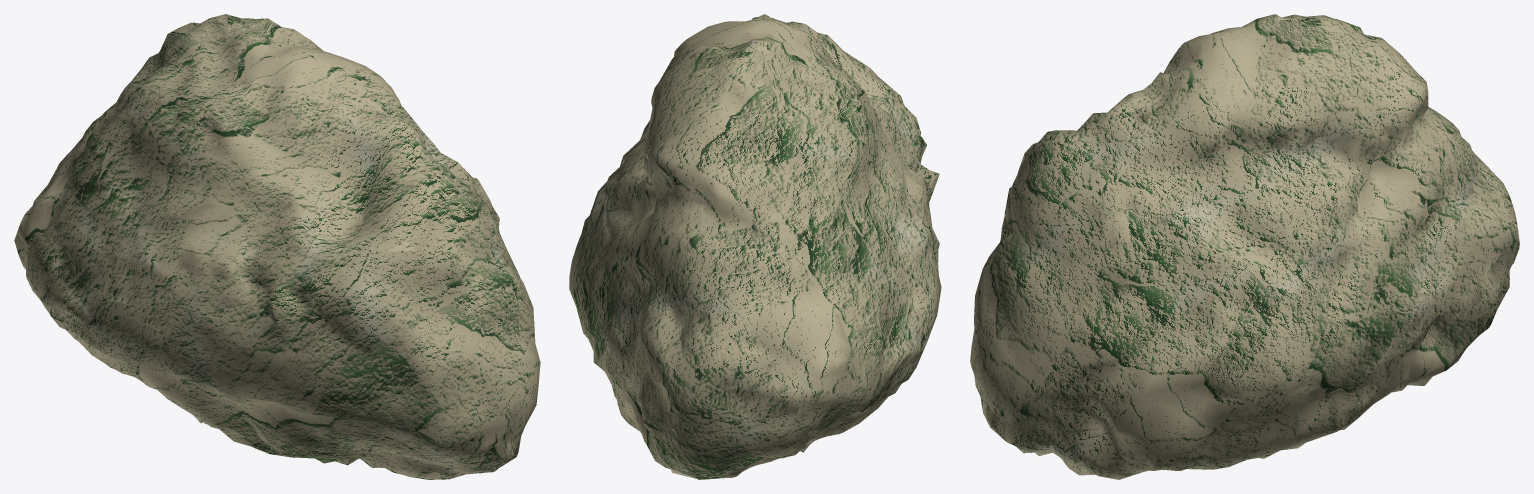
Rendered from rock4.fbx.
3 views of the same model, side by side, from view 1: azimuth 30°, elevation 25°; view 2: azimuth 150°, elevation 25°; view 3: azimuth 270°, elevation 25° (orthographic). The views are drawn at different scales.
Visible parts, largest first — view 1: rock2_low; view 2: rock2_low; view 3: rock2_low.
Part boxes in pixels (x1,y1,x2,y2): rock2_low: [14, 14, 540, 479]; rock2_low: [569, 14, 941, 479]; rock2_low: [970, 14, 1519, 479].
Bounding box in the file's own units: 77.06 × 83.78 × 103.
